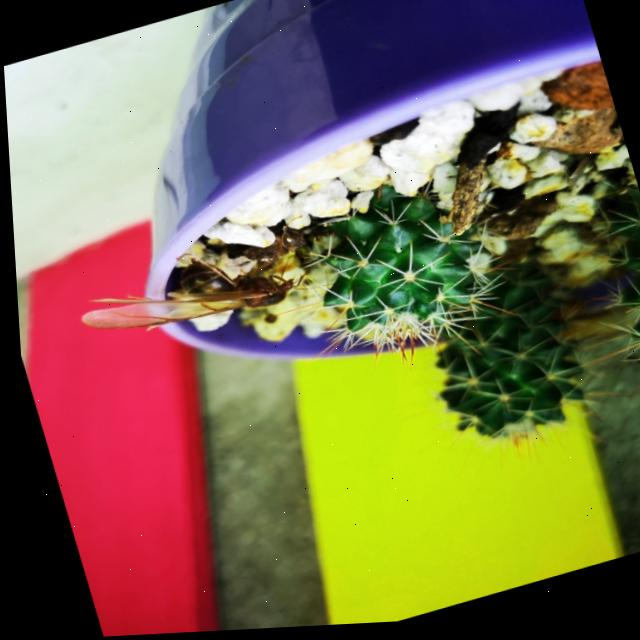Alive-Male-Alate: (64, 214, 333, 359)
